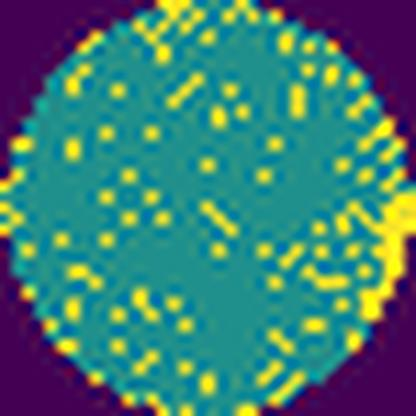Edge-Loc: (331, 181, 415, 321)
